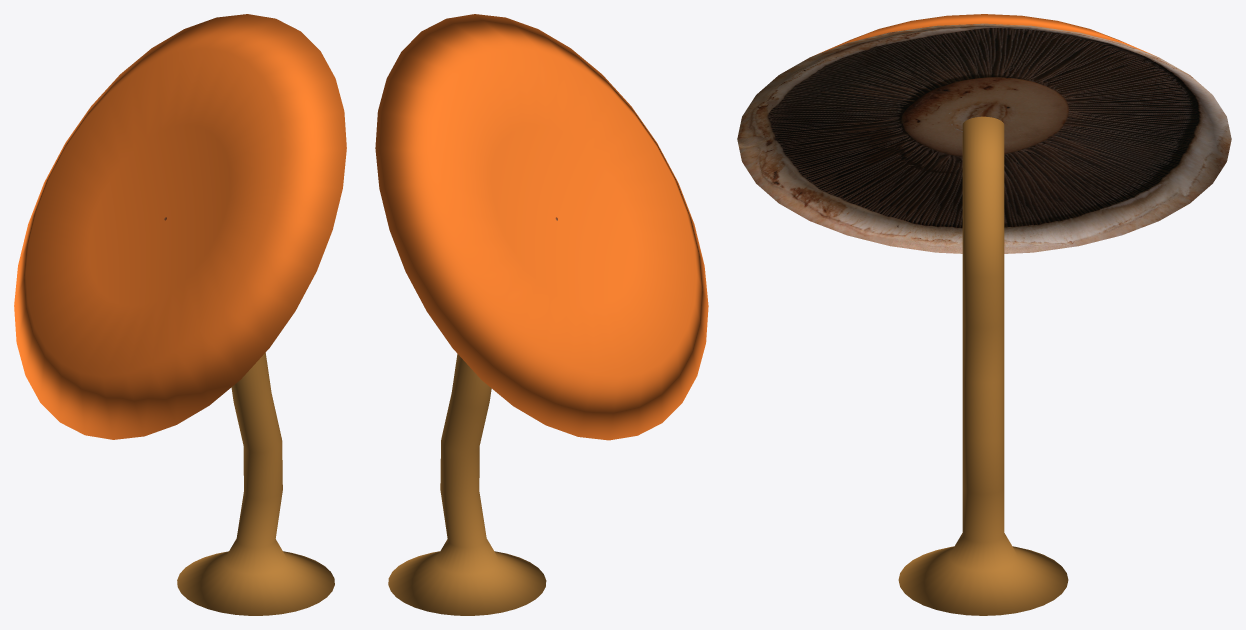
The model's file is champignon002.fbx.
The picture shows the model from 3 angles, left to right: view 1: azimuth 30°, elevation 25°; view 2: azimuth 150°, elevation 25°; view 3: azimuth 270°, elevation 25°; orthographic projection. The views are drawn at different scales.
Visible parts, largest first — view 1: Cylinder; view 2: Cylinder; view 3: Cylinder.
Boxes of the visible parts, box(x1,y1,x2,y2) form: Cylinder: box(14, 14, 346, 615); Cylinder: box(375, 14, 708, 615); Cylinder: box(737, 14, 1231, 615).
Size of the model in its own units: 77.03 by 151 by 116.
